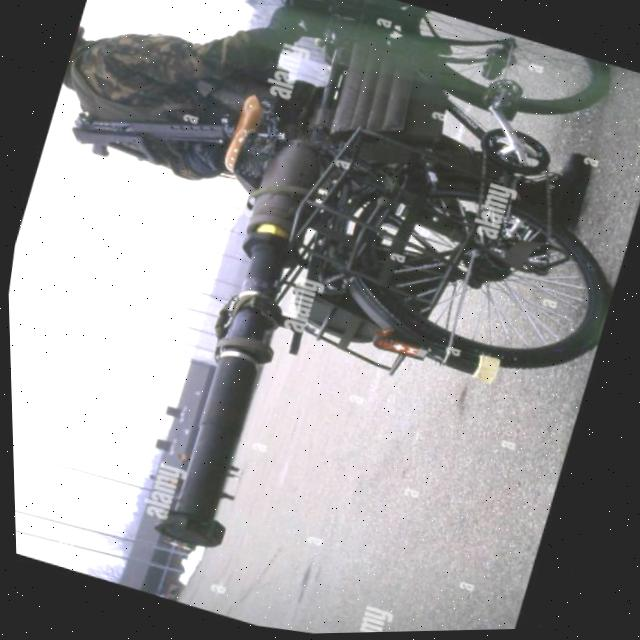rocket: (122, 125, 355, 574)
